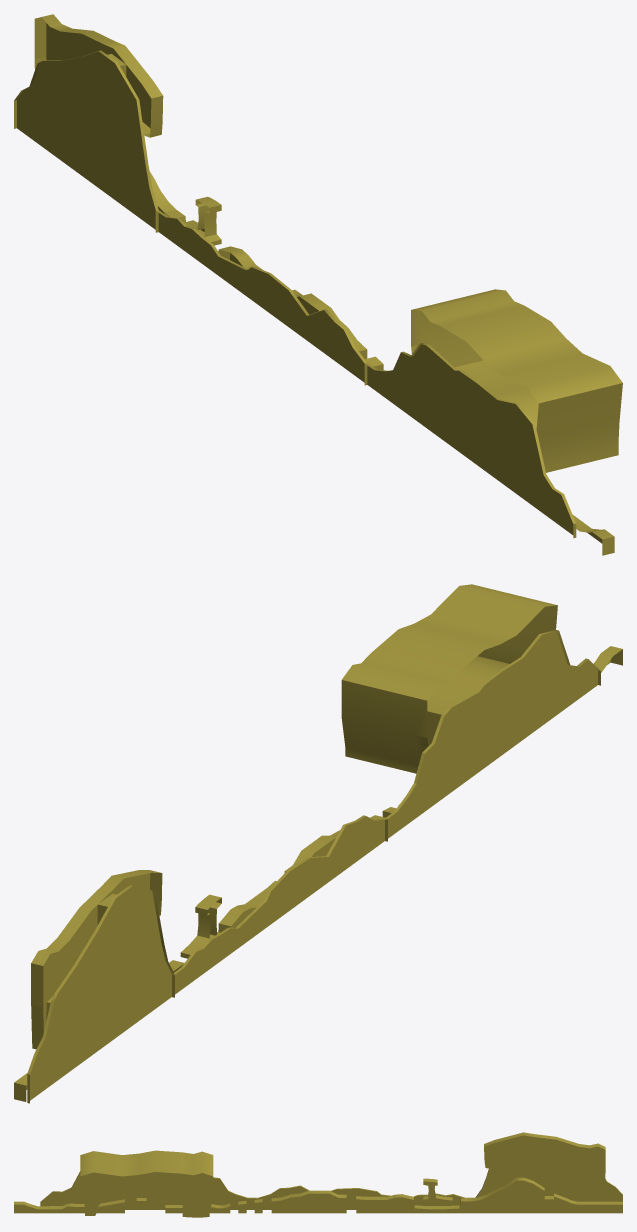
The model's file is Side Scroller Vertical Slice 3 (Sprint 4 v2).fbx.
3 renders of one model, top to bottom at view 1: azimuth 30°, elevation 25°; view 2: azimuth 150°, elevation 25°; view 3: azimuth 270°, elevation 25°, orthographic. The views are drawn at different scales.
Parts seen in each view (by area): view 1: polySurface69, polySurface70, polySurface60, polySurface68, polySurface61, polySurface57, polySurface56; view 2: polySurface69, polySurface70, polySurface60, polySurface68, polySurface61, polySurface57, polySurface58; view 3: polySurface69, polySurface61, polySurface62, polySurface70, polySurface60, polySurface58, polySurface56, polySurface68, polySurface66, polySurface57, polySurface67.
Part boxes in pixels (left/top/right/bottom): polySurface69: left=411, top=289, right=622, bottom=472; polySurface70: left=14, top=50, right=158, bottom=232; polySurface60: left=365, top=343, right=576, bottom=538; polySurface68: left=155, top=210, right=367, bottom=385; polySurface61: left=34, top=14, right=163, bottom=137; polySurface57: left=184, top=196, right=221, bottom=245; polySurface56: left=292, top=289, right=367, bottom=358; polySurface69: left=341, top=584, right=557, bottom=773; polySurface70: left=27, top=885, right=174, bottom=1103; polySurface60: left=385, top=630, right=600, bottom=841; polySurface68: left=172, top=815, right=387, bottom=997; polySurface61: left=31, top=870, right=162, bottom=1049; polySurface57: left=180, top=894, right=221, bottom=958; polySurface58: left=169, top=881, right=276, bottom=972; polySurface69: left=80, top=1150, right=213, bottom=1217; polySurface61: left=484, top=1132, right=605, bottom=1194; polySurface62: left=469, top=1177, right=622, bottom=1213; polySurface70: left=475, top=1145, right=622, bottom=1201; polySurface60: left=40, top=1171, right=257, bottom=1209; polySurface58: left=356, top=1194, right=469, bottom=1213; polySurface56: left=271, top=1190, right=346, bottom=1213; polySurface68: left=258, top=1185, right=474, bottom=1209; polySurface66: left=14, top=1199, right=124, bottom=1213; polySurface57: left=423, top=1178, right=452, bottom=1202; polySurface67: left=165, top=1203, right=230, bottom=1213.
Bounding box in the file's own units: 30.99 × 50.31 × 357.
